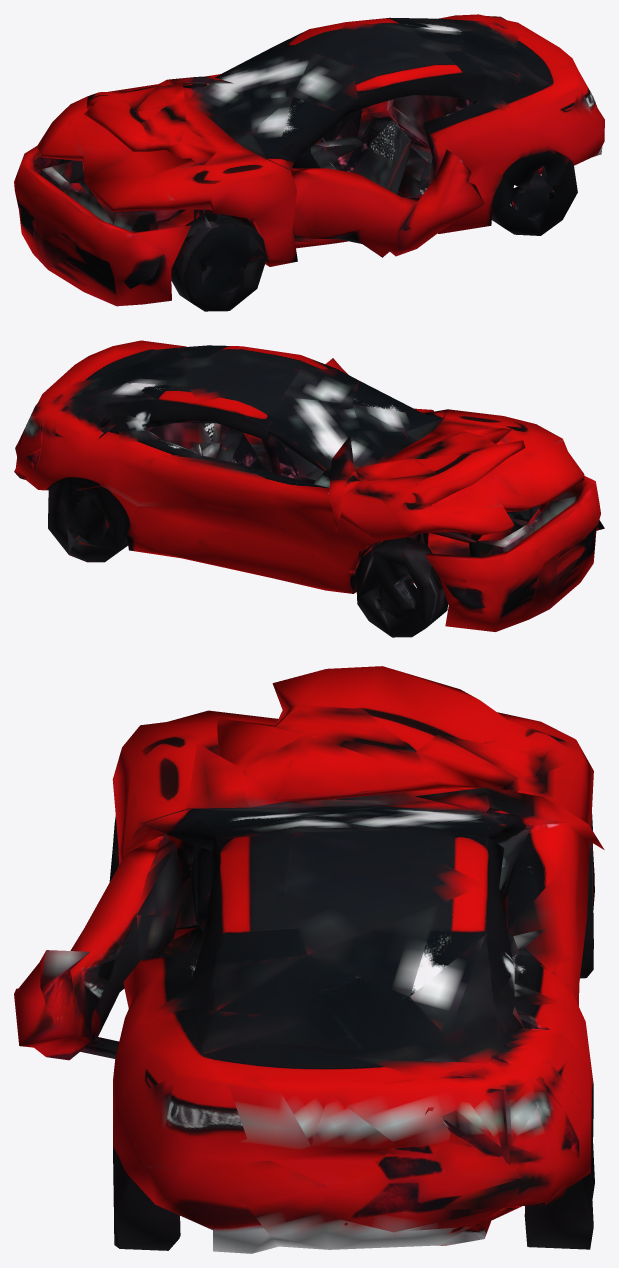
File: Midnight_Wreck_0307194505_texture.fbx
3 renders of one model, top to bottom at view 1: azimuth 30°, elevation 25°; view 2: azimuth 150°, elevation 25°; view 3: azimuth 270°, elevation 25°, orthographic. The views are drawn at different scales.
Visible parts, largest first — view 1: Mesh_0; view 2: Mesh_0; view 3: Mesh_0.
Part boxes in pixels (x1,y1,x2,y2): Mesh_0: (14,14,604,311); Mesh_0: (14,340,604,637); Mesh_0: (14,666,604,1253).
Bounding box in the file's own units: 192 × 59.14 × 107.
1 material, 1 textured.
